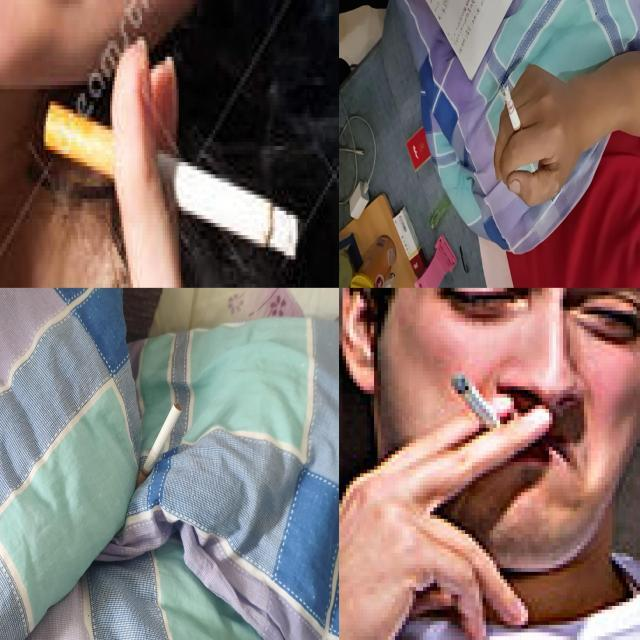cigarette: (42, 100, 300, 262), (130, 402, 183, 497), (450, 374, 512, 446), (503, 85, 524, 140)
